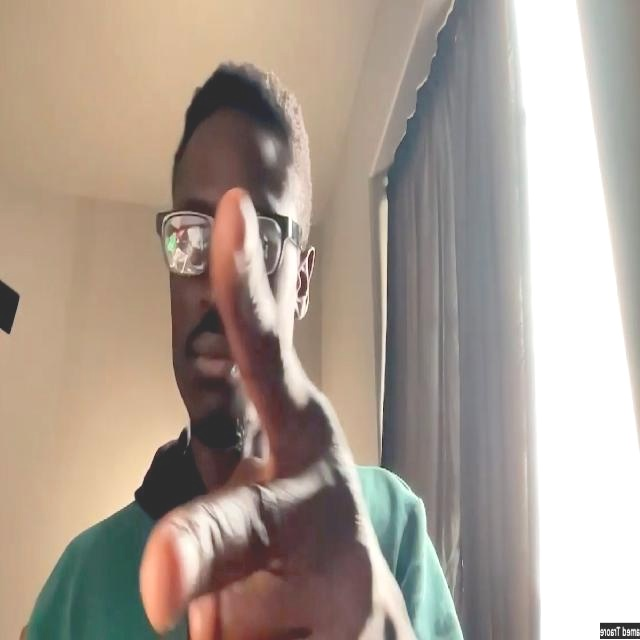Scissors: (140, 187, 411, 640)
